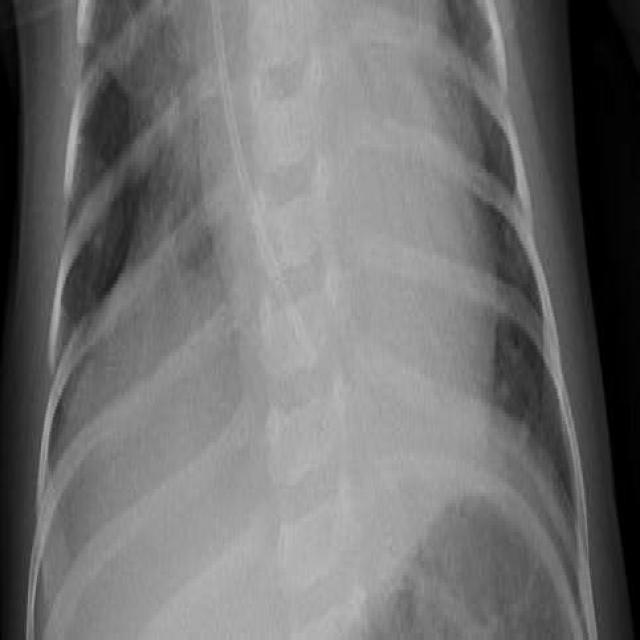low-pneumonia: (112, 8, 199, 245)
